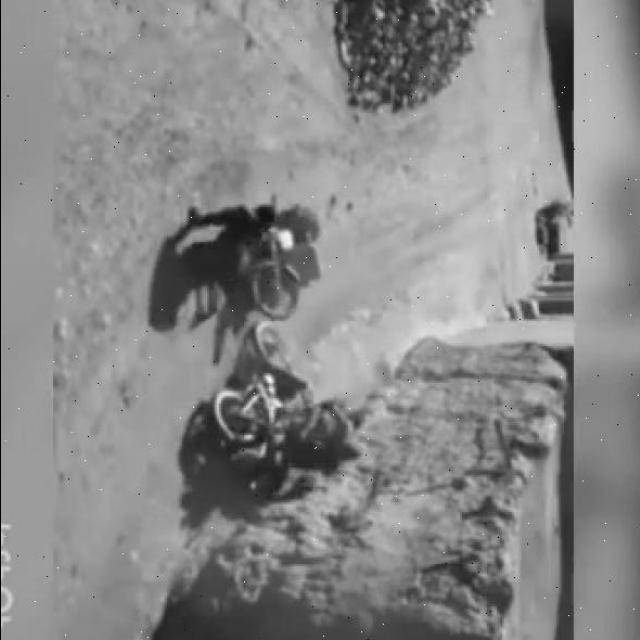accident: (191, 346, 355, 512), (249, 190, 326, 338)
